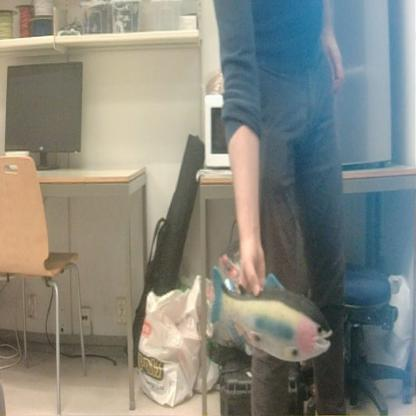rubberfish: (208, 257, 337, 370)
